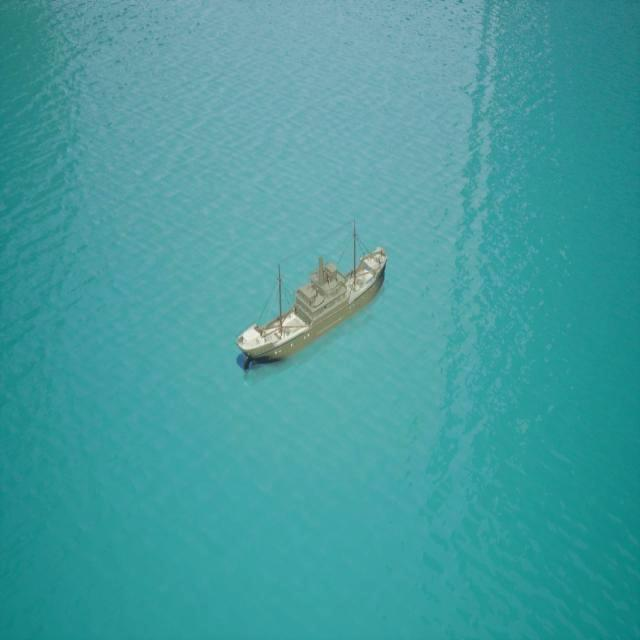no-oil: (3, 7, 640, 627)
